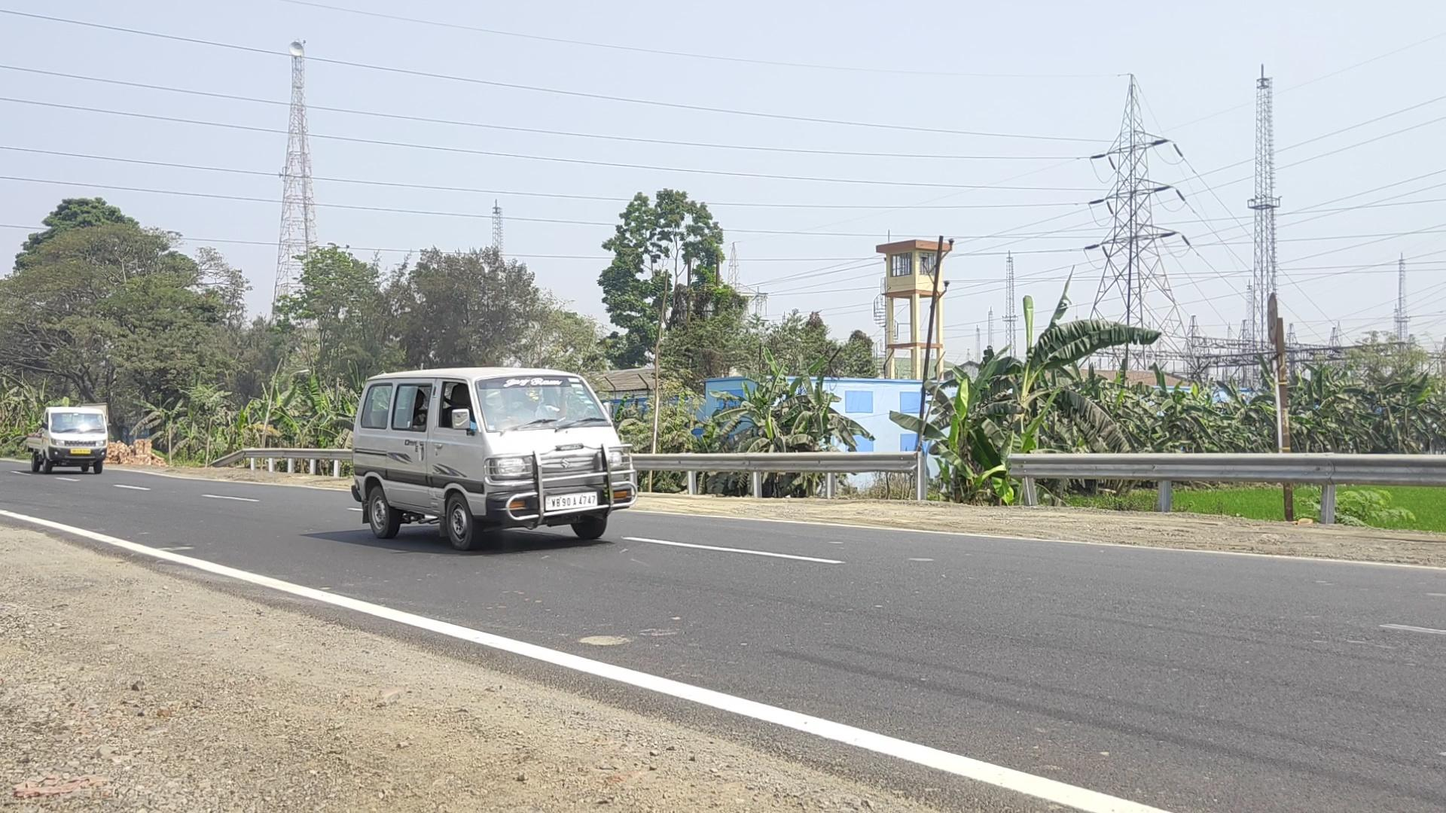van: (351, 367, 637, 553), (27, 406, 111, 475)
